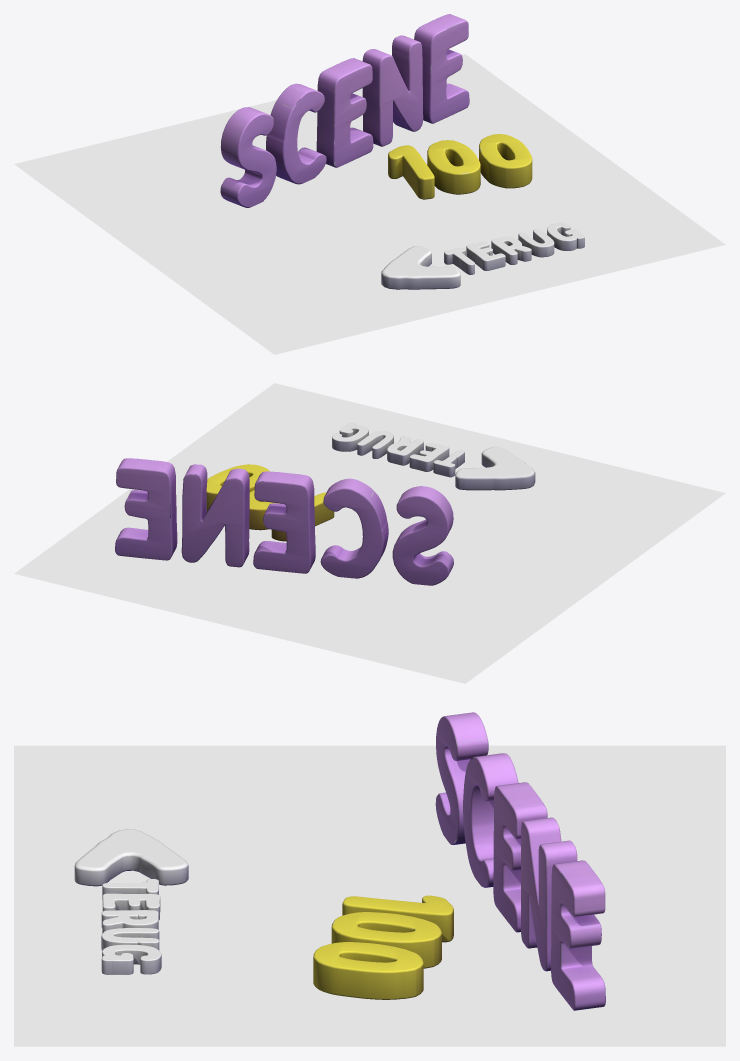
3 renders of one model, top to bottom at view 1: azimuth 30°, elevation 25°; view 2: azimuth 150°, elevation 25°; view 3: azimuth 270°, elevation 25°, orthographic. The views are drawn at different scales.
Visible parts, largest first — view 1: zFloor, TXT.Scene, EVT.Back; view 2: zFloor, TXT.Scene, EVT.Back; view 3: zFloor, TXT.Scene, EVT.Back.
Part boxes in pixels (bbox=[...]): zFloor: bbox=[14, 54, 725, 354]; TXT.Scene: bbox=[220, 14, 532, 207]; EVT.Back: bbox=[381, 222, 584, 289]; zFloor: bbox=[14, 383, 725, 683]; TXT.Scene: bbox=[115, 458, 453, 585]; EVT.Back: bbox=[332, 423, 535, 490]; zFloor: bbox=[14, 745, 725, 1046]; TXT.Scene: bbox=[313, 712, 605, 1010]; EVT.Back: bbox=[74, 829, 188, 974].
Size of the model in its own units: 3.36 by 0.65 by 3.36.
Materials: 2 (2 with a texture image).
